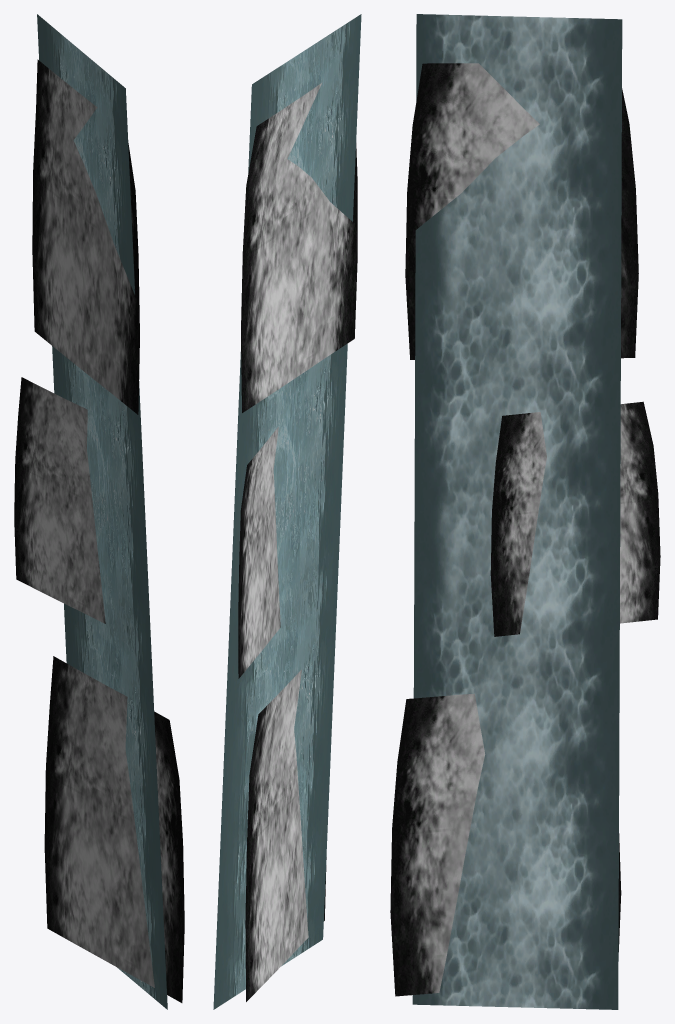
The model's file is dragonblight_combin_waterfall_02.obj.
3 renders of one model, left to right at view 1: azimuth 30°, elevation 25°; view 2: azimuth 150°, elevation 25°; view 3: azimuth 270°, elevation 25°, orthographic. The views are drawn at different scales.
Visible parts, largest first — view 1: Geoset1, Geoset2, Geoset0; view 2: Geoset2, Geoset1, Geoset0; view 3: Geoset0, Geoset1.
Boxes of the visible parts, <box> form: Geoset1: <box>14,59,184,1002</box>; Geoset2: <box>37,14,167,1009</box>; Geoset0: <box>38,15,167,1007</box>; Geoset2: <box>213,14,361,1009</box>; Geoset1: <box>238,83,357,1001</box>; Geoset0: <box>213,14,360,1006</box>; Geoset0: <box>412,14,622,1009</box>; Geoset1: <box>390,63,660,996</box>.
Size of the model in its own units: 7.6 by 134 by 33.9.
3 materials, 3 textured.
